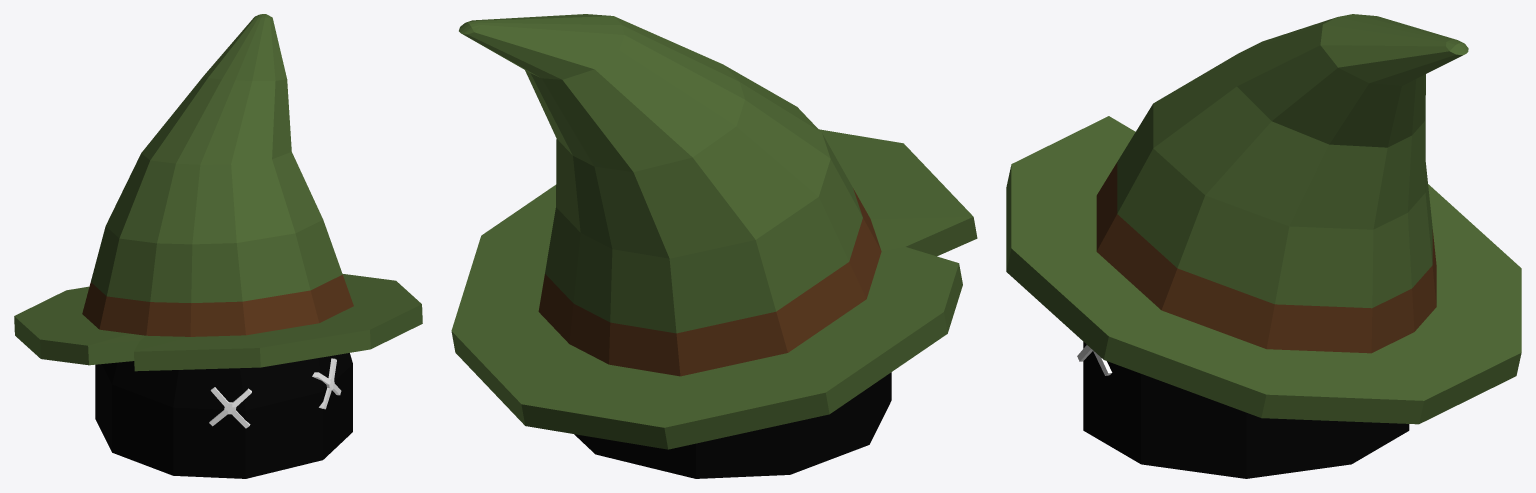
The model's file is Head.fbx.
3 renders of one model, left to right at view 1: azimuth 30°, elevation 25°; view 2: azimuth 150°, elevation 25°; view 3: azimuth 270°, elevation 25°, orthographic. The views are drawn at different scales.
Visible parts, largest first — view 1: PlayerHat, Head, Eyes; view 2: PlayerHat, Head; view 3: PlayerHat, Head.
Part boxes in pixels (x1=…): PlayerHat: x1=14, y1=14, x2=422, y2=371; Head: x1=95, y1=353, x2=352, y2=478; Eyes: x1=209, y1=358, x2=341, y2=428; PlayerHat: x1=451, y1=14, x2=977, y2=449; Head: x1=574, y1=372, x2=891, y2=478; PlayerHat: x1=1006, y1=14, x2=1521, y2=424; Head: x1=1083, y1=342, x2=1409, y2=478.
Size of the model in its own units: 261 by 236 by 241.
